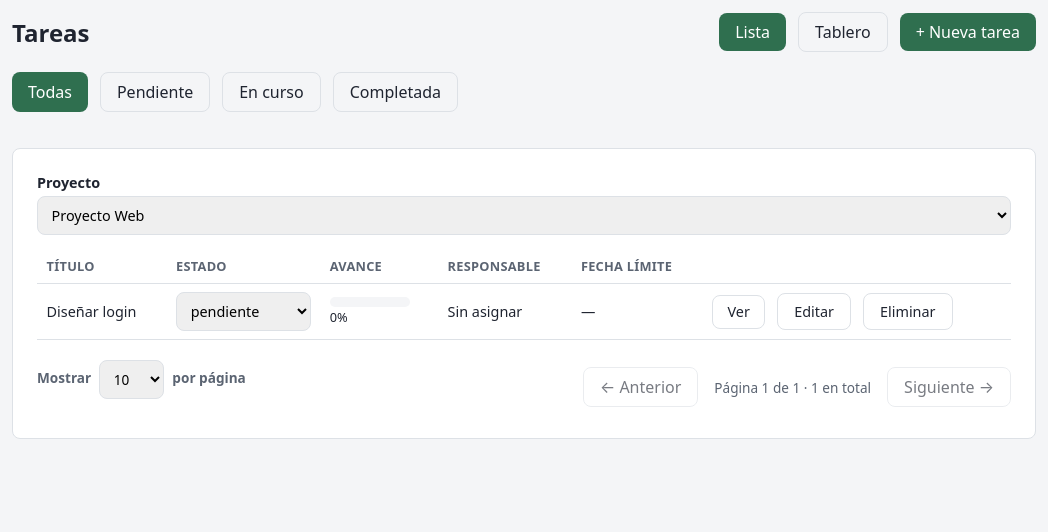
Test: SupervisorTasks — paginación y cambio de estado › muestra el mensaje de un ApiError si falla el cambio de estado de una tarea
The width and height of the screenshot is (1048, 532).
Expected: the text "Diseñar login" is shown, [37,284,166,340]
Select "en curso" in the dropdown showing "pendiente" at x=243, y=312, box [176,292,310,331]
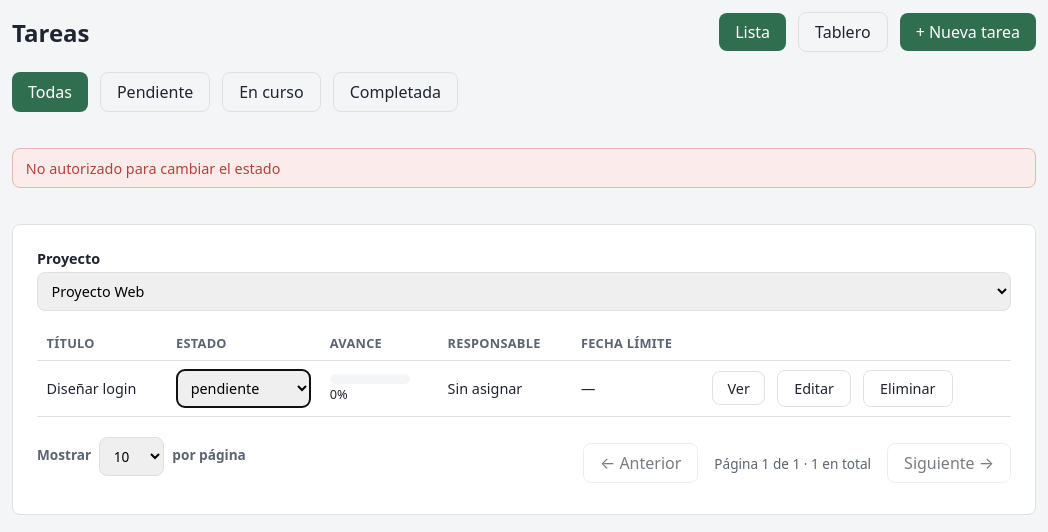
Result: the text "No autorizado para cambiar el estado" is shown at [12,148,1036,188]
